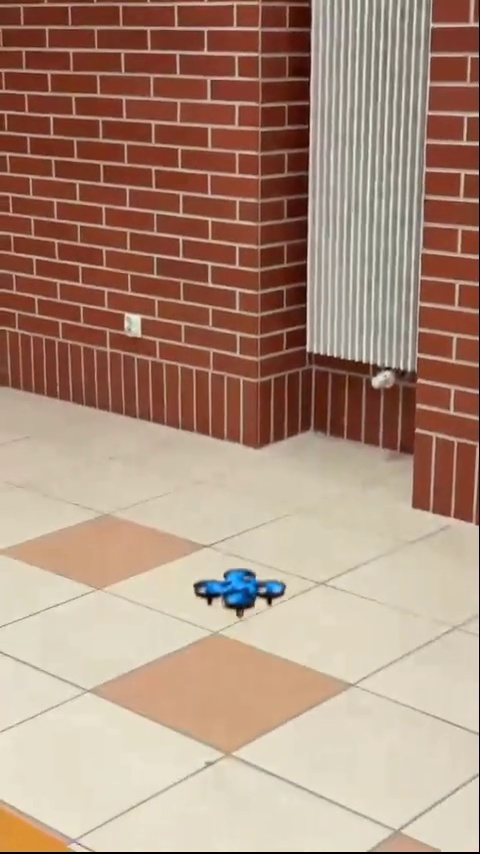drone: (194, 569, 287, 619)
